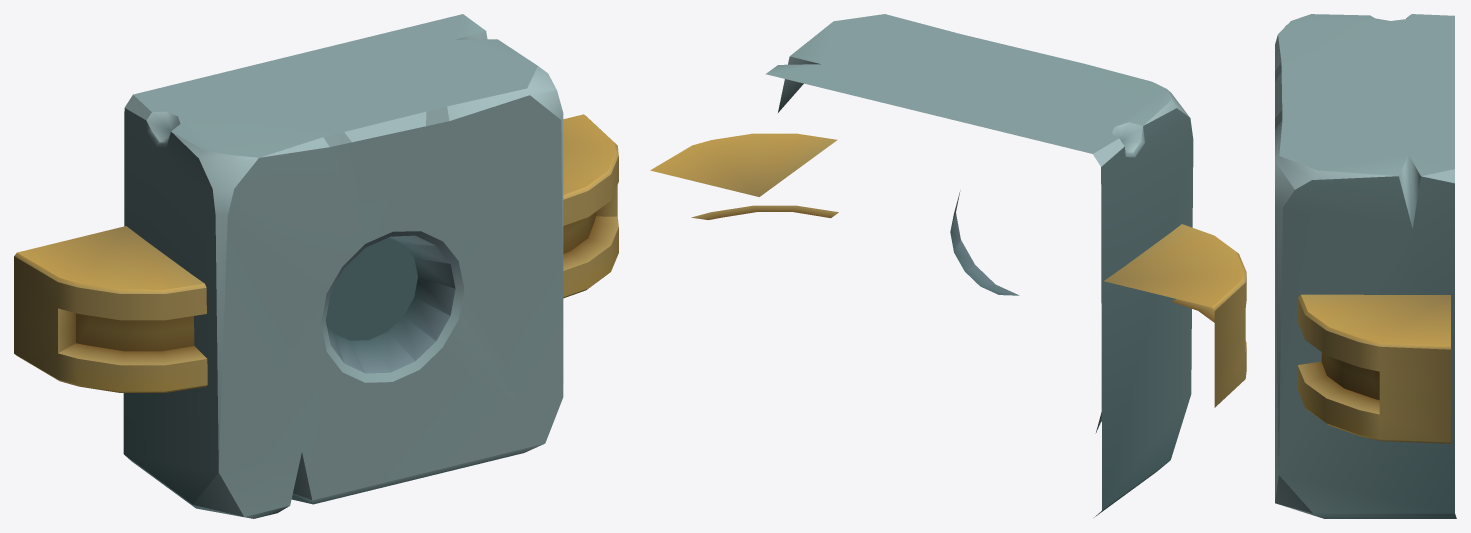
File: PearlSlot.glb
3 renders of one model, left to right at view 1: azimuth 30°, elevation 25°; view 2: azimuth 150°, elevation 25°; view 3: azimuth 270°, elevation 25°, orthographic. The views are drawn at different scales.
Visible parts, largest first — view 1: PearlSlot; view 2: PearlSlot; view 3: PearlSlot.
Boxes of the visible parts, left/top/right/bottom form: PearlSlot: left=14, top=14, right=618, bottom=518; PearlSlot: left=650, top=14, right=1246, bottom=517; PearlSlot: left=1275, top=14, right=1456, bottom=518.
Size of the model in its own units: 1.39 by 0.8533 by 0.4025.
